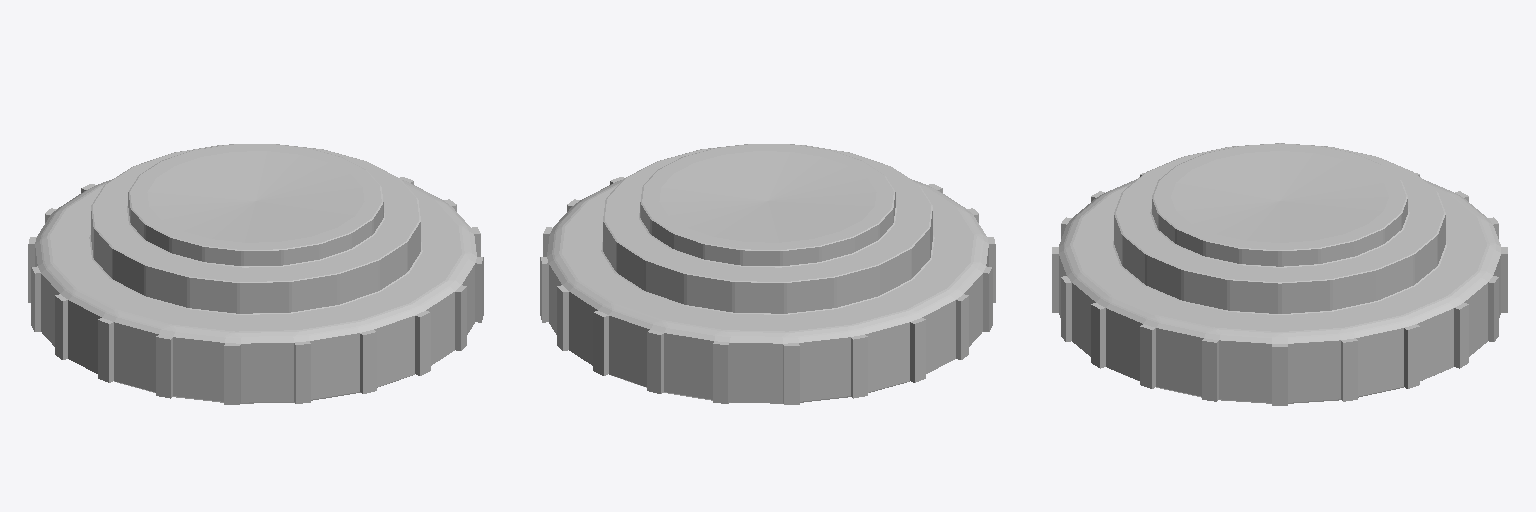
File: wonderbase.obj
3 renders of one model, left to right at view 1: azimuth 30°, elevation 25°; view 2: azimuth 150°, elevation 25°; view 3: azimuth 270°, elevation 25°, orthographic.
Bounding box in the file's own units: 11.21 × 3.2 × 11.21.